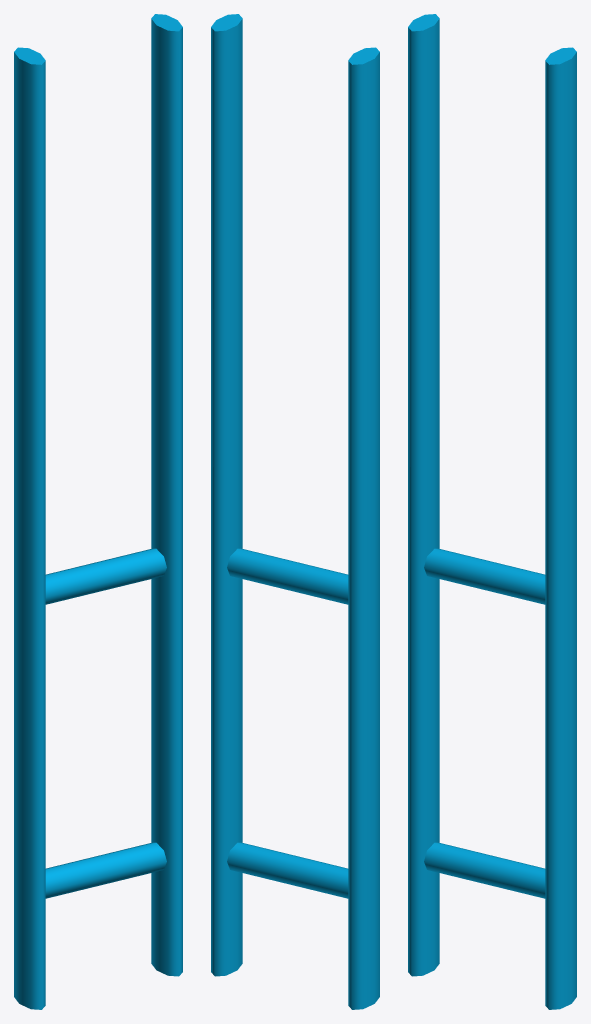
File: Commercials_Bilboard_B_Base.fbx
3 views of the same model, side by side, from view 1: azimuth 30°, elevation 25°; view 2: azimuth 150°, elevation 25°; view 3: azimuth 330°, elevation 25° (orthographic).
Parts seen in each view (by area): view 1: Commercials_Bilboard_B_Base; view 2: Commercials_Bilboard_B_Base; view 3: Commercials_Bilboard_B_Base.
Boxes of the visible parts, x1,y1,x2,y2 form: Commercials_Bilboard_B_Base: [14, 14, 182, 1009]; Commercials_Bilboard_B_Base: [211, 14, 379, 1009]; Commercials_Bilboard_B_Base: [408, 14, 576, 1009].
Size of the model in its own units: 31.57 by 180 by 8.21.
